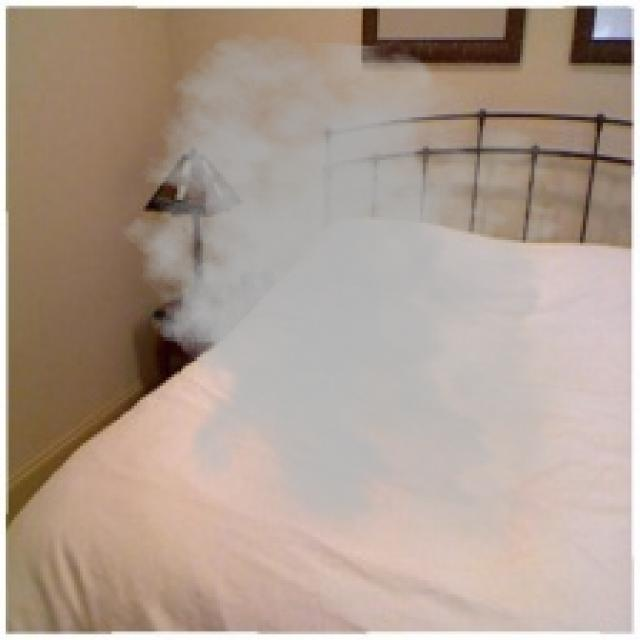smoke: (106, 32, 623, 574)
